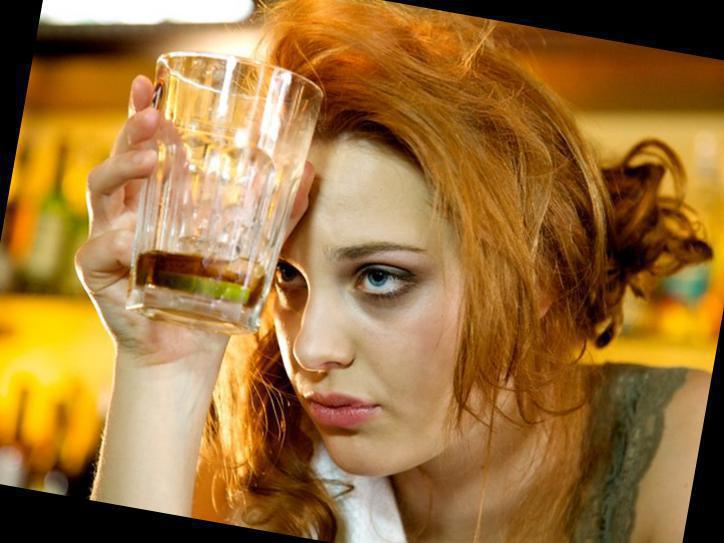Drunk: (282, 164, 468, 471)
